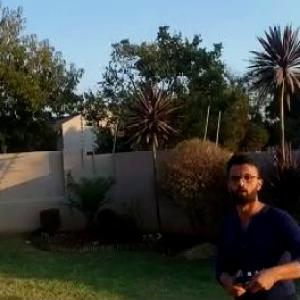follow: (210, 142, 300, 299)
